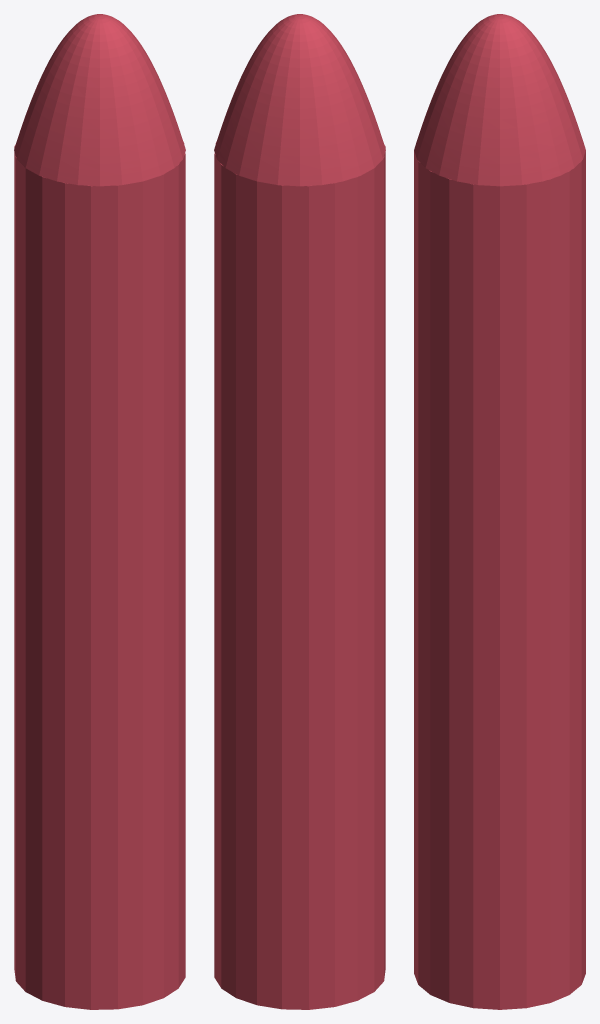
The model's file is laser.glb.
The picture shows the model from 3 angles, left to right: view 1: azimuth 30°, elevation 25°; view 2: azimuth 150°, elevation 25°; view 3: azimuth 270°, elevation 25°; orthographic projection.
Visible parts, largest first — view 1: Mesh_Mesh_head_geo.001_lambert2SG.001; view 2: Mesh_Mesh_head_geo.001_lambert2SG.001; view 3: Mesh_Mesh_head_geo.001_lambert2SG.001.
Boxes of the visible parts, x1,y1,x2,y2 form: Mesh_Mesh_head_geo.001_lambert2SG.001: (14,14,185,1009); Mesh_Mesh_head_geo.001_lambert2SG.001: (214,14,385,1009); Mesh_Mesh_head_geo.001_lambert2SG.001: (414,14,585,1009).
Size of the model in its own units: 7 by 43 by 7.
